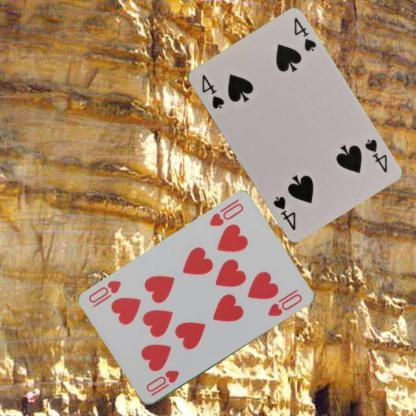10h: (144, 368, 180, 398), (206, 201, 244, 228)
4s: (198, 72, 226, 110), (362, 136, 388, 174)
